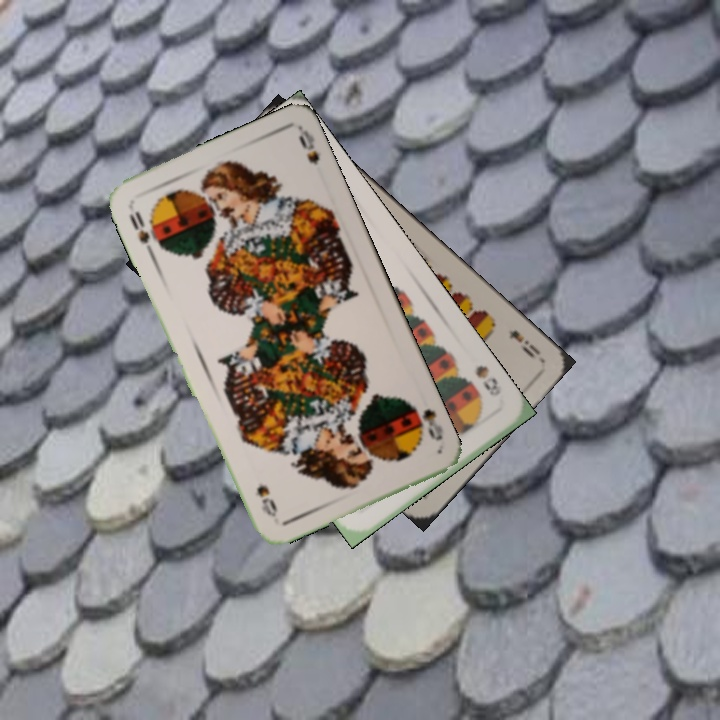E9: (504, 325, 544, 361)
S8: (471, 361, 504, 399)
SO: (125, 207, 163, 259), (404, 397, 446, 444)
